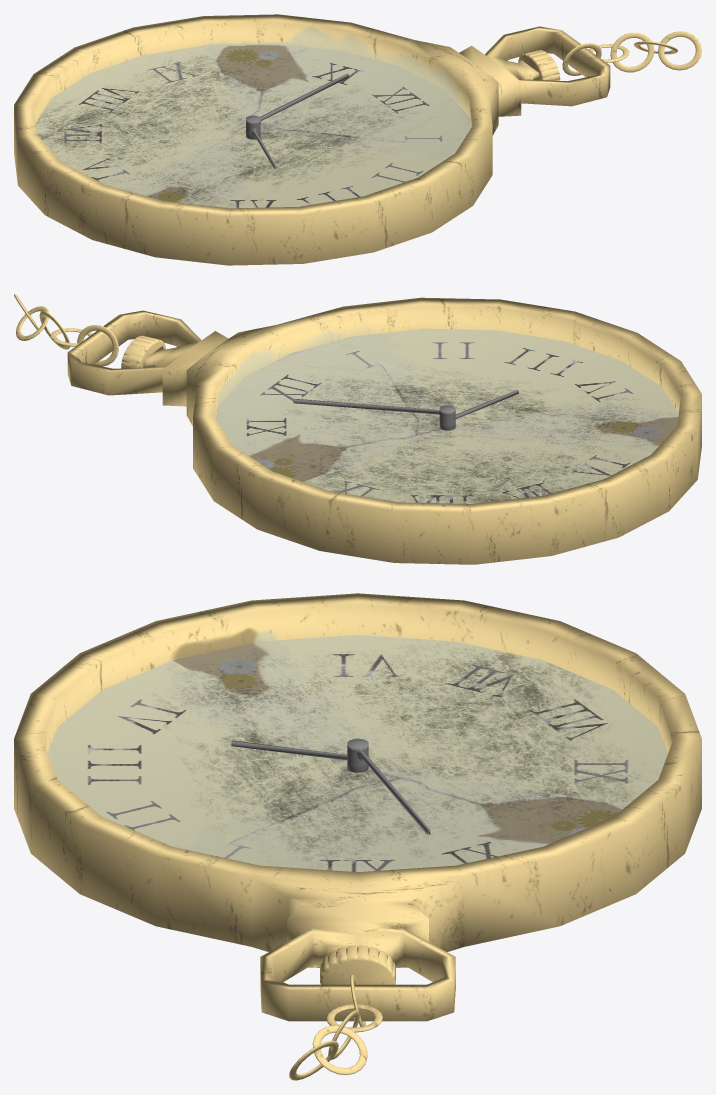
The picture shows the model from 3 angles, top to bottom: view 1: azimuth 30°, elevation 25°; view 2: azimuth 150°, elevation 25°; view 3: azimuth 270°, elevation 25°; orthographic projection. The views are drawn at different scales.
Parts seen in each view (by area): view 1: Watch_LowPoly; view 2: Watch_LowPoly; view 3: Watch_LowPoly.
Part boxes in pixels (left/top/right/bottom): Watch_LowPoly: left=14, top=14, right=701, bottom=265; Watch_LowPoly: left=14, top=294, right=701, bottom=564; Watch_LowPoly: left=14, top=593, right=701, bottom=1080.
Bounding box in the file's own units: 2 × 0.1661 × 1.31.
Materials: 1 (1 with a texture image).
